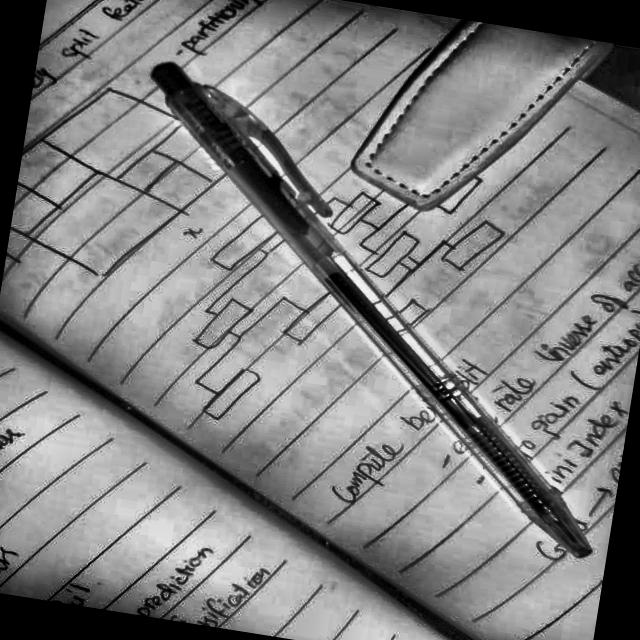Pen: (111, 38, 606, 564)
